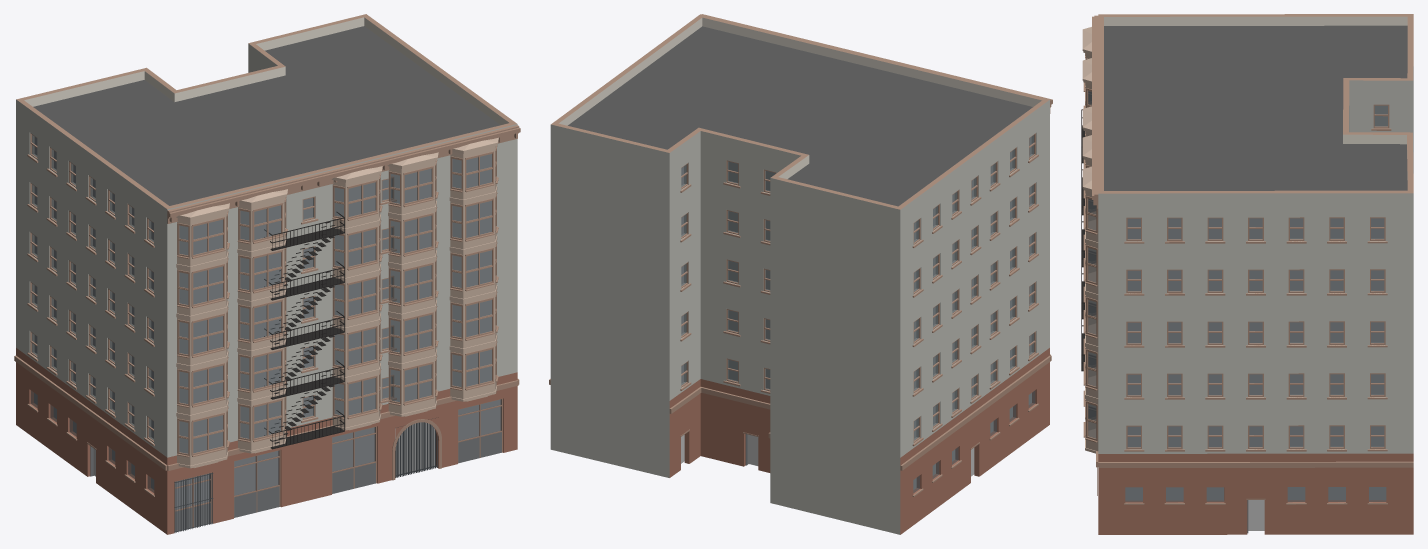
The model's file is exterior.glb.
3 renders of one model, left to right at view 1: azimuth 30°, elevation 25°; view 2: azimuth 150°, elevation 25°; view 3: azimuth 270°, elevation 25°, orthographic. The views are drawn at different scales.
Visible parts, largest first — view 1: shell, bay-glazing-hyb, roof, shadow-proxy, bay-windows-hyb, glazing, storefront, trim, fire-escape, frames, hyC-arches-6; view 2: shell, roof, glazing, frames, trim, shadow-proxy; view 3: shell, roof, glazing, shadow-proxy, frames, trim, bay-windows-hyb, bay-glazing-hyb, fire-escape.
Part boxes in pixels (x1,y1,x2,y2): shell: (16, 14, 517, 534); bay-glazing-hyb: (177, 146, 498, 457); roof: (33, 26, 500, 205); shadow-proxy: (34, 137, 500, 509); bay-windows-hyb: (176, 137, 498, 468); glazing: (30, 135, 501, 509); storefront: (87, 398, 502, 532); trim: (14, 125, 520, 496); fire-escape: (264, 212, 344, 449); frames: (30, 133, 393, 442); hyC-arches-6: (392, 417, 441, 480); shell: (550, 14, 1049, 534); roof: (568, 26, 1032, 206); glazing: (681, 135, 1035, 493); frames: (681, 133, 1035, 442); trim: (549, 14, 1052, 496); shadow-proxy: (681, 137, 1031, 489); shell: (1098, 14, 1413, 534); roof: (1104, 25, 1407, 190); glazing: (1125, 105, 1387, 502); shadow-proxy: (1125, 106, 1387, 530); frames: (1126, 104, 1389, 449); trim: (1092, 15, 1413, 504); bay-windows-hyb: (1082, 27, 1098, 453); bay-glazing-hyb: (1083, 53, 1097, 442); fire-escape: (1081, 109, 1085, 371).
Size of the model in its own units: 24.48 by 21.49 by 18.97.
